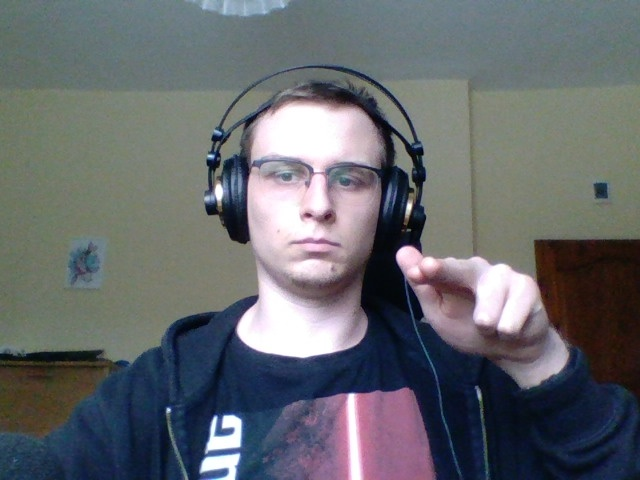no: (390, 231, 559, 368)
